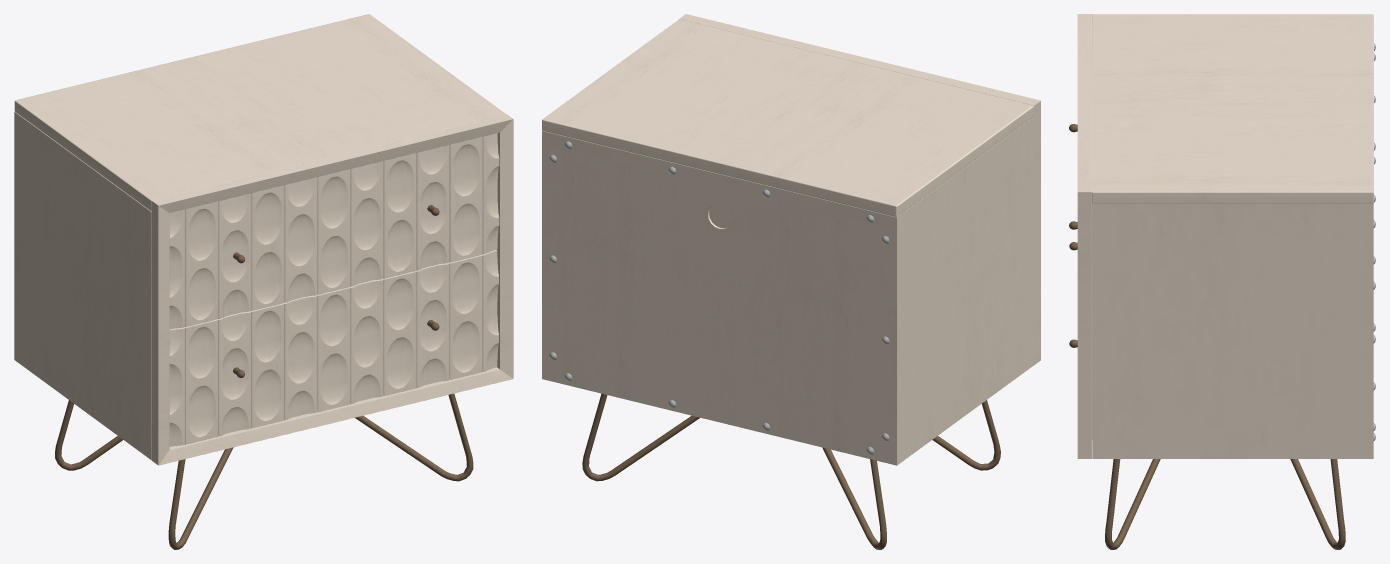
The model's file is table_B07B4Y45RJ.glb.
3 renders of one model, left to right at view 1: azimuth 30°, elevation 25°; view 2: azimuth 150°, elevation 25°; view 3: azimuth 270°, elevation 25°, orthographic. The views are drawn at different scales.
Parts seen in each view (by area): view 1: RootNode; view 2: RootNode; view 3: RootNode.
Boxes of the visible parts, x1,y1,x2,y2 form: RootNode: [14, 14, 513, 549]; RootNode: [542, 14, 1040, 549]; RootNode: [1069, 14, 1375, 549].
Size of the model in its own units: 0.6138 by 0.6043 by 0.4469.
Materials: 1 (1 with a texture image).
